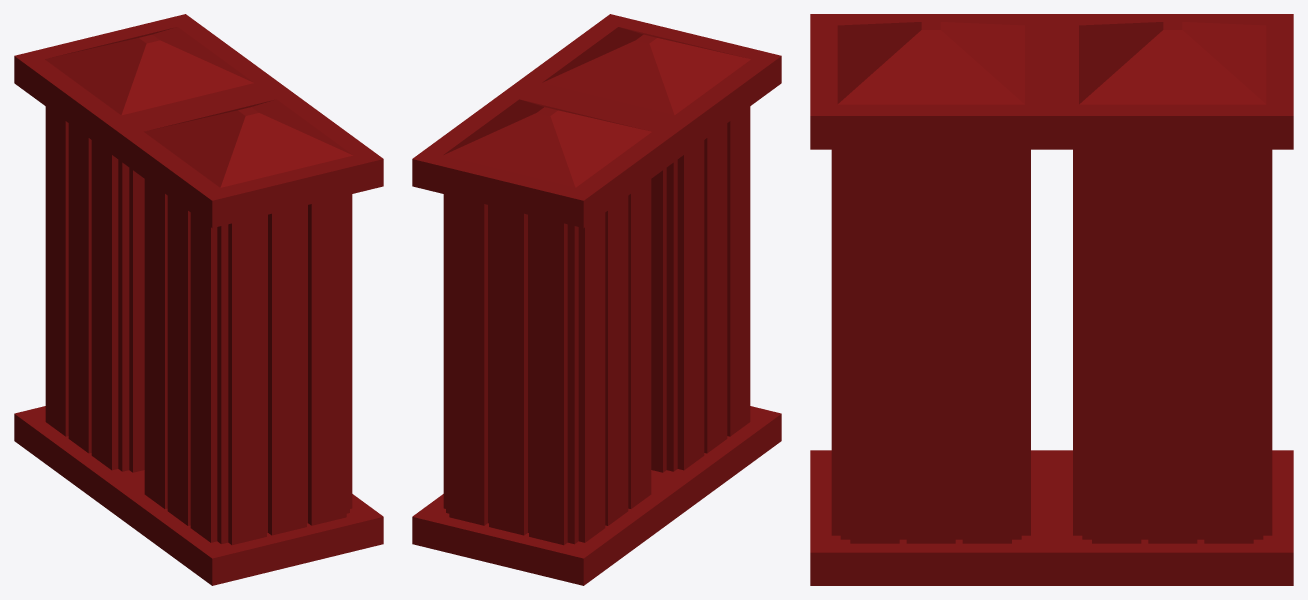
Rendered from Model_Undead_Obstacle.fbx.
3 renders of one model, left to right at view 1: azimuth 30°, elevation 25°; view 2: azimuth 150°, elevation 25°; view 3: azimuth 270°, elevation 25°, orthographic. The views are drawn at different scales.
Visible parts, largest first — view 1: Model_Frost_Obstacle; view 2: Model_Frost_Obstacle; view 3: Model_Frost_Obstacle.
Part boxes in pixels (x1,y1,x2,y2): Model_Frost_Obstacle: [14, 14, 383, 585]; Model_Frost_Obstacle: [412, 14, 781, 585]; Model_Frost_Obstacle: [810, 14, 1293, 585].
Size of the model in its own units: 100 by 233 by 200.
